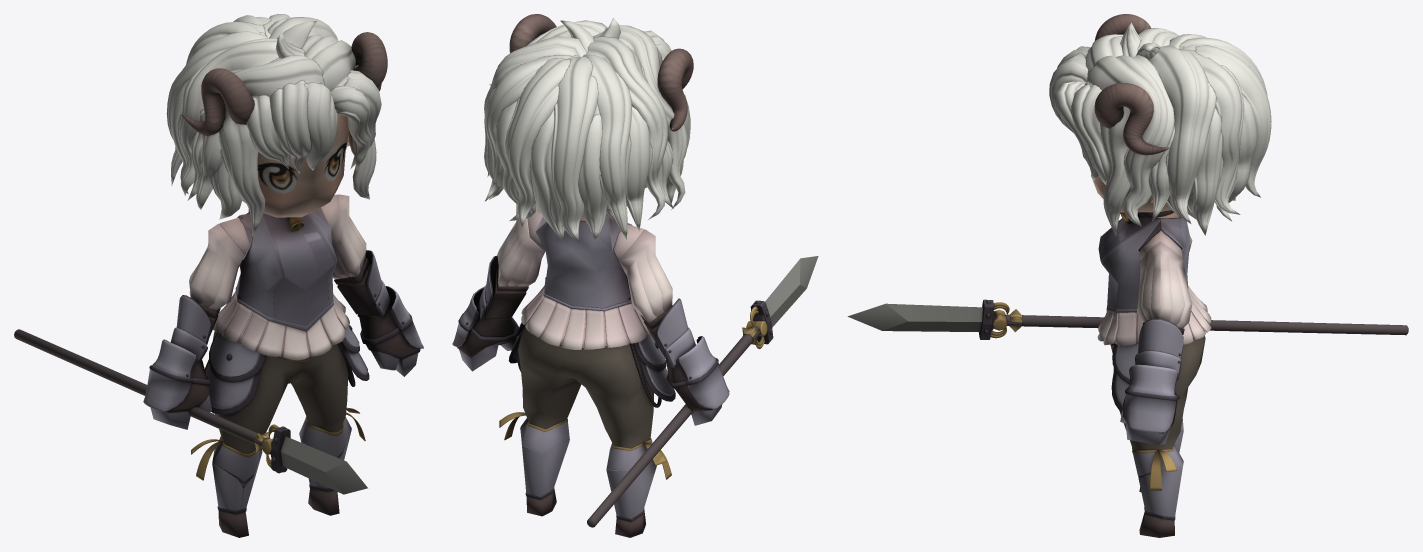
Rendered from Cotton.fbx.
3 views of the same model, side by side, from view 1: azimuth 30°, elevation 25°; view 2: azimuth 150°, elevation 25°; view 3: azimuth 270°, elevation 25° (orthographic). The views are drawn at different scales.
Visible parts, largest first — view 1: Cotton; view 2: Cotton; view 3: Cotton.
Part boxes in pixels (x1,y1,x2,y2): Cotton: (14, 14, 423, 537); Cotton: (452, 14, 818, 537); Cotton: (847, 14, 1408, 537).
Bounding box in the file's own units: 107 × 189 × 199.
